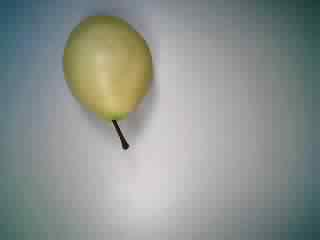pear: (49, 9, 162, 154)
